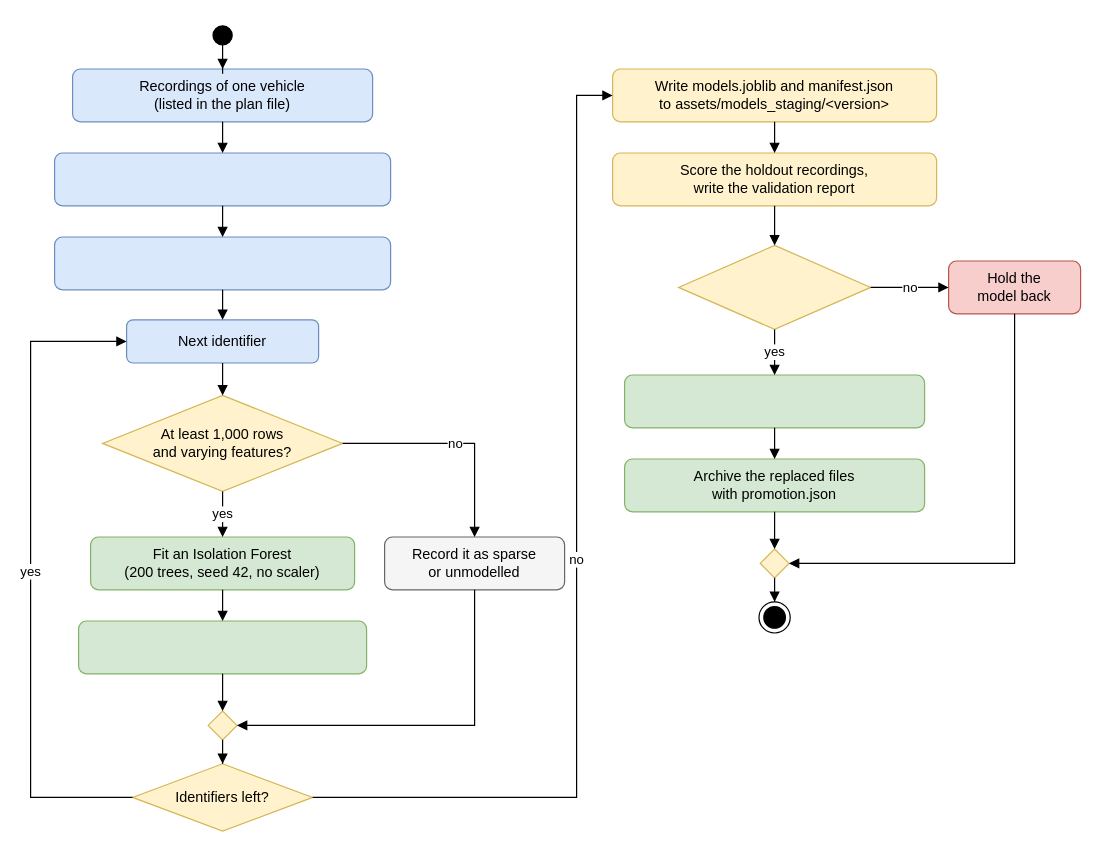
This 1102x852 diagram has some shape labels left out. The centre of each missing label's shape, as x and y in pixels:
"Compute the 9 features per identifier on the training recordings" goes at (222,263).
"Evaluation acceptable?" goes at (774,286).
"Promote to assets/models (model file stored with Git LFS)" goes at (774,401).
"Split by recording: training or holdout (no overlap, checked with SHA-256)" goes at (222,179).
"Threshold: 2% of the training rows (strict quantile), keep the median" goes at (222,647).
